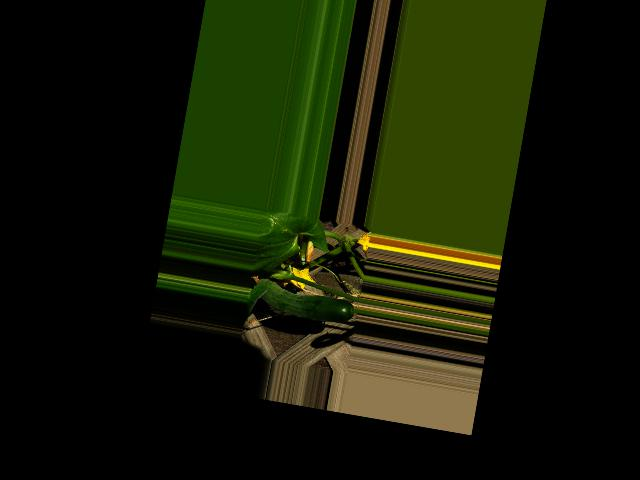cucumber: (246, 276, 355, 326)
